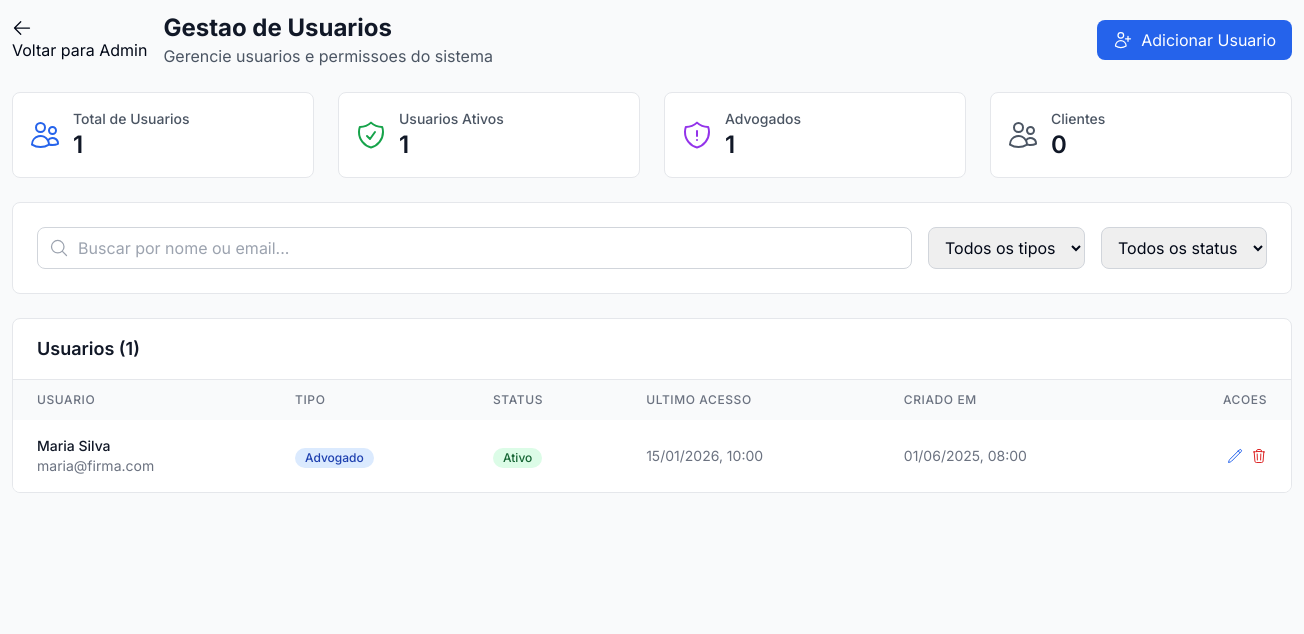
Test: UsersManagementPage › Search and filters › filters by search term
Type "nonexistent" into the field with placeholder "Buscar por nome ou email..." at coordinates (474, 248), box [37,227,912,269]
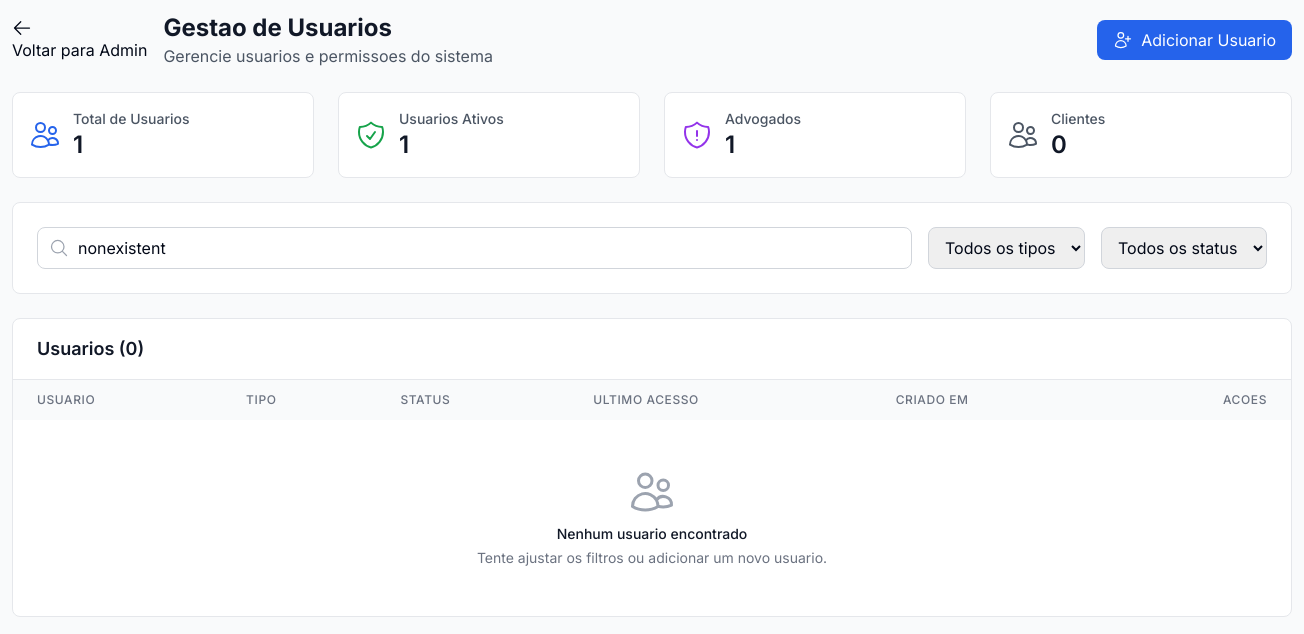
Check: the heading "Nenhum usuario encontrado" is shown, box [557,525,747,542]
